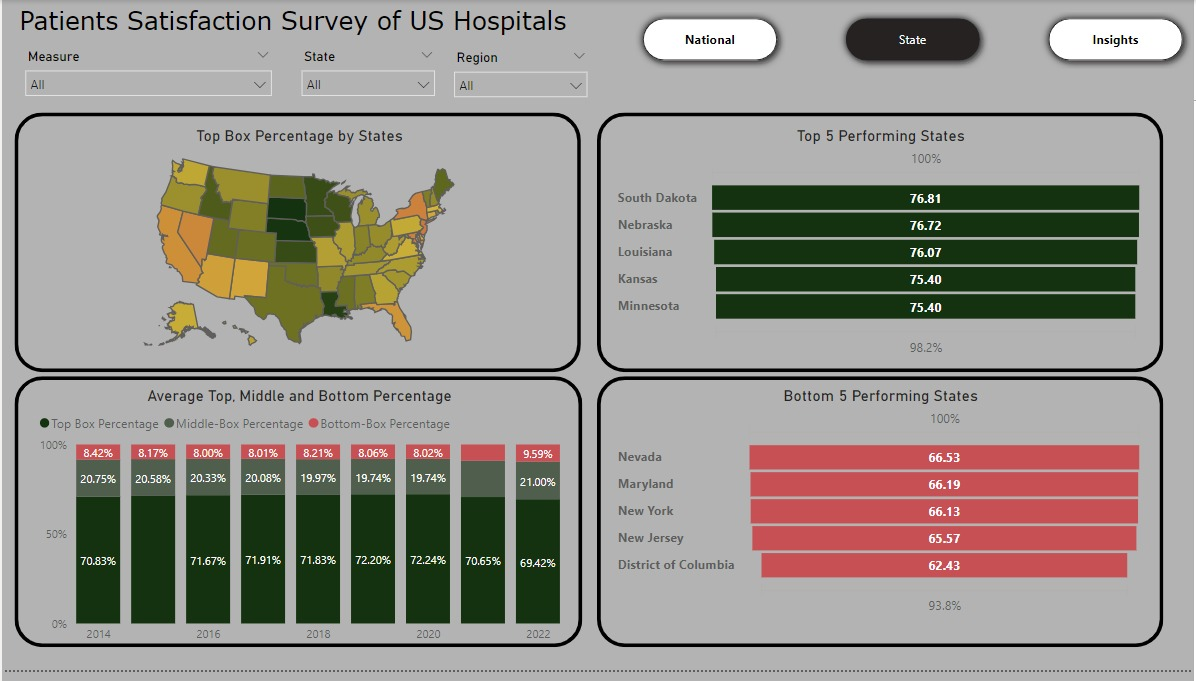

What the dashboard file says about the page in this screenshot:
{"tool":"powerbi","page":{"name":"State","canvas":[1280,720],"ordinal":1},"visuals":[{"type":"shape","box":[639.6,404.5,608.7,291.6],"z":0},{"type":"shape","box":[639.6,120.9,608.7,279.5],"z":1000},{"type":"shape","box":[13.4,120.9,608.7,279.5],"z":2000},{"type":"shape","box":[13.4,404.5,610,291],"z":3000},{"type":"slicer","fields":{"Values":["measures (2).Measure"]},"box":[14.8,47,284.9,73.9],"z":4000},{"type":"hundredPercentStackedColumnChart","title":"Average Top, Middle and Bottom Percentage","fields":{"Category":["reports.End Year"],"Y":["Sum(state_results.Top-box Percentage)","Sum(state_results.Middle-box Percentage)","Sum(state_results.Bottom-box Percentage)"]},"box":[34.9,415.2,569.7,284.9],"z":5000},{"type":"textbox","box":[13.4,0,610,60.5],"z":6000},{"type":"slicer","fields":{"Values":["states.State Name"]},"box":[311.7,47,163.9,73.9],"z":7000},{"type":"slicer","fields":{"Values":["states.Region"]},"box":[475.7,48.4,163.9,73.9],"z":8000},{"type":"funnel","title":"Top 5 Performing States","fields":{"Category":["states.State Name"],"Y":["Avg(state_results.Top-box Percentage)"]},"box":[657.1,135.7,575.1,251.3],"z":9000},{"type":"funnel","title":"Bottom 5 Performing States","fields":{"Category":["states.State Name"],"Y":["Avg(state_results.Top-box Percentage)"]},"box":[657.1,415.2,575.1,249.9],"z":10000},{"type":"pageNavigator","box":[679.4,10.7,600.6,63.2],"z":11000},{"type":"shapeMap","title":"Top Box Percentage by States","fields":{"Category":["states.State Name"],"Value":["Avg(state_results.Top-box Percentage)"]},"box":[34.9,135.7,569.7,251.3],"z":11001}]}

Visuals, with their boxes in screenshot pixels (x1, y1, x2, y2), scaled from the page's 1280x720 canvas onto the 1196x681 screenshot:
shape: rect(598, 383, 1166, 658)
shape: rect(598, 114, 1166, 379)
shape: rect(13, 114, 581, 379)
shape: rect(13, 383, 582, 658)
slicer - measures (2).Measure: rect(14, 44, 280, 114)
"Average Top, Middle and Bottom Percentage" hundredPercentStackedColumnChart: rect(33, 393, 565, 662)
textbox: rect(13, 0, 582, 57)
slicer - states.State Name: rect(291, 44, 444, 114)
slicer - states.Region: rect(444, 46, 598, 116)
"Top 5 Performing States" funnel: rect(614, 128, 1151, 366)
"Bottom 5 Performing States" funnel: rect(614, 393, 1151, 629)
pageNavigator: rect(635, 10, 1195, 70)
"Top Box Percentage by States" shapeMap: rect(33, 128, 565, 366)
